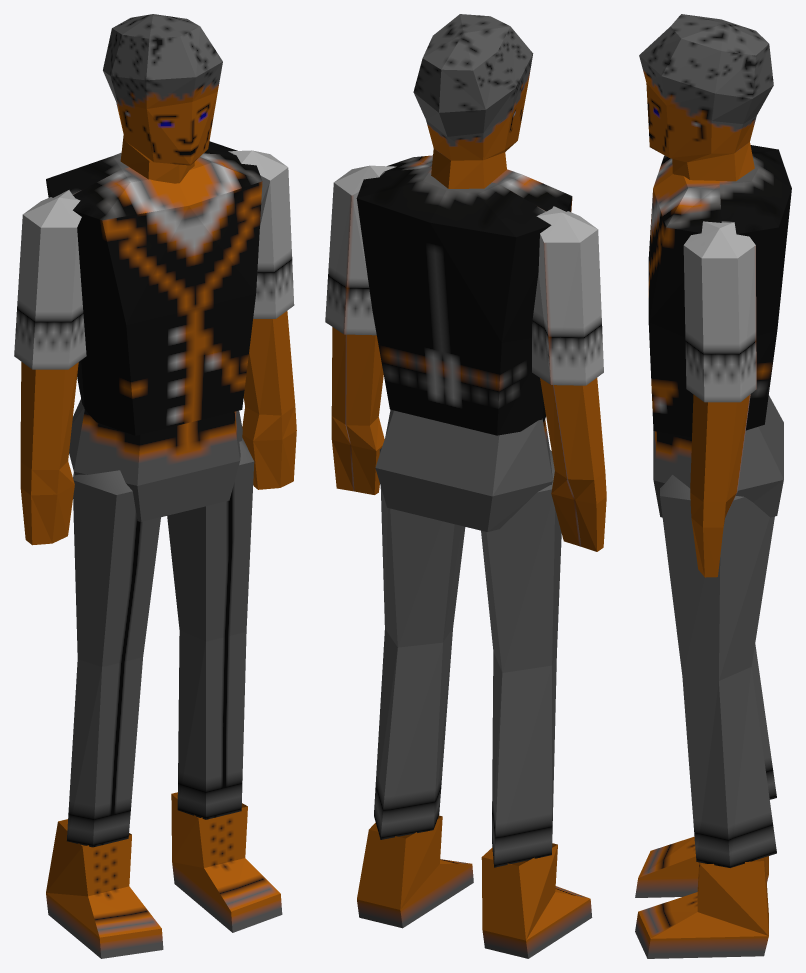
The model's file is Man3d_v4.fbx.
3 renders of one model, left to right at view 1: azimuth 30°, elevation 25°; view 2: azimuth 150°, elevation 25°; view 3: azimuth 270°, elevation 25°, orthographic.
Visible parts, largest first — view 1: man; view 2: man; view 3: man.
Boxes of the visible parts, <box> form: man: <box>14,14,296,958</box>; man: <box>325,14,606,958</box>; man: <box>635,14,791,958</box>.
Bounding box in the file's own units: 26 × 83.61 × 13.34.
1 material, 1 textured.
